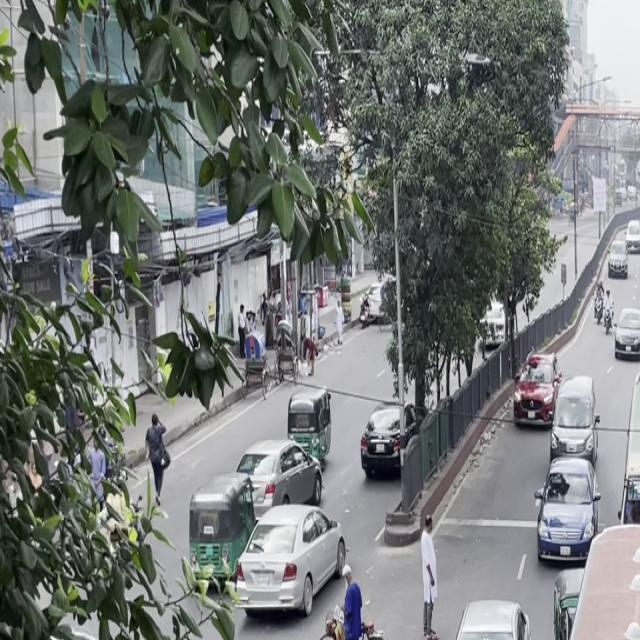car: (227, 493, 352, 634), (532, 446, 604, 578), (230, 433, 320, 521), (544, 377, 600, 478), (357, 397, 416, 487), (434, 592, 540, 640), (512, 347, 563, 434), (612, 302, 640, 364), (606, 239, 629, 280)
rickshaw: (182, 473, 258, 603)
